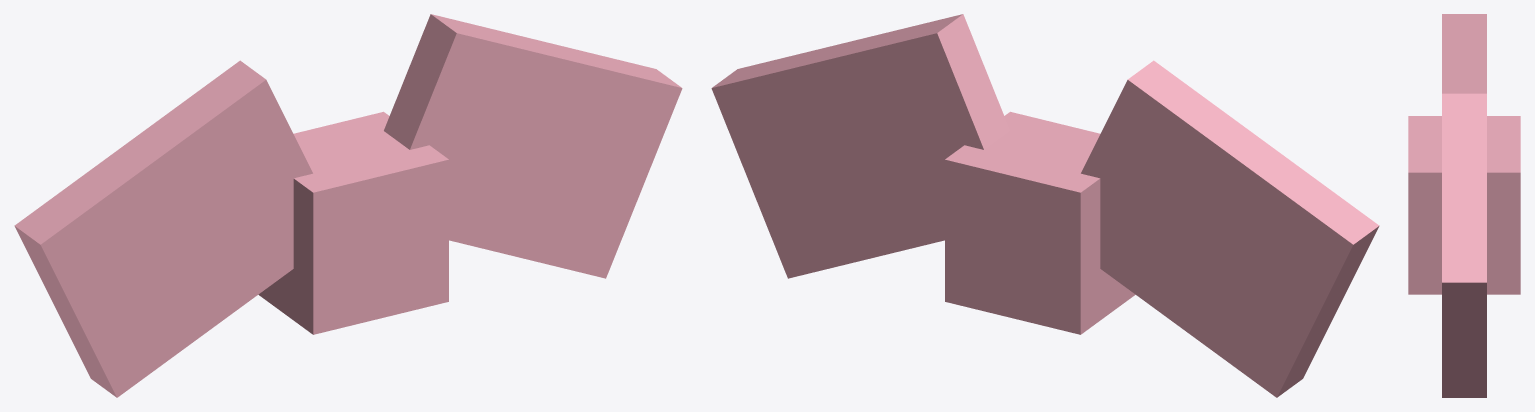
Rendered from ribbon_bow.glb.
3 renders of one model, left to right at view 1: azimuth 30°, elevation 25°; view 2: azimuth 150°, elevation 25°; view 3: azimuth 270°, elevation 25°, orthographic. The views are drawn at different scales.
Visible parts, largest first — view 1: Ribbon Bow; view 2: Ribbon Bow; view 3: Ribbon Bow.
Part boxes in pixels (x1,y1,x2,y2): Ribbon Bow: [14, 14, 682, 397]; Ribbon Bow: [711, 14, 1379, 397]; Ribbon Bow: [1408, 14, 1520, 397].
Size of the model in its own units: 0.2835 by 0.119 by 0.05.
